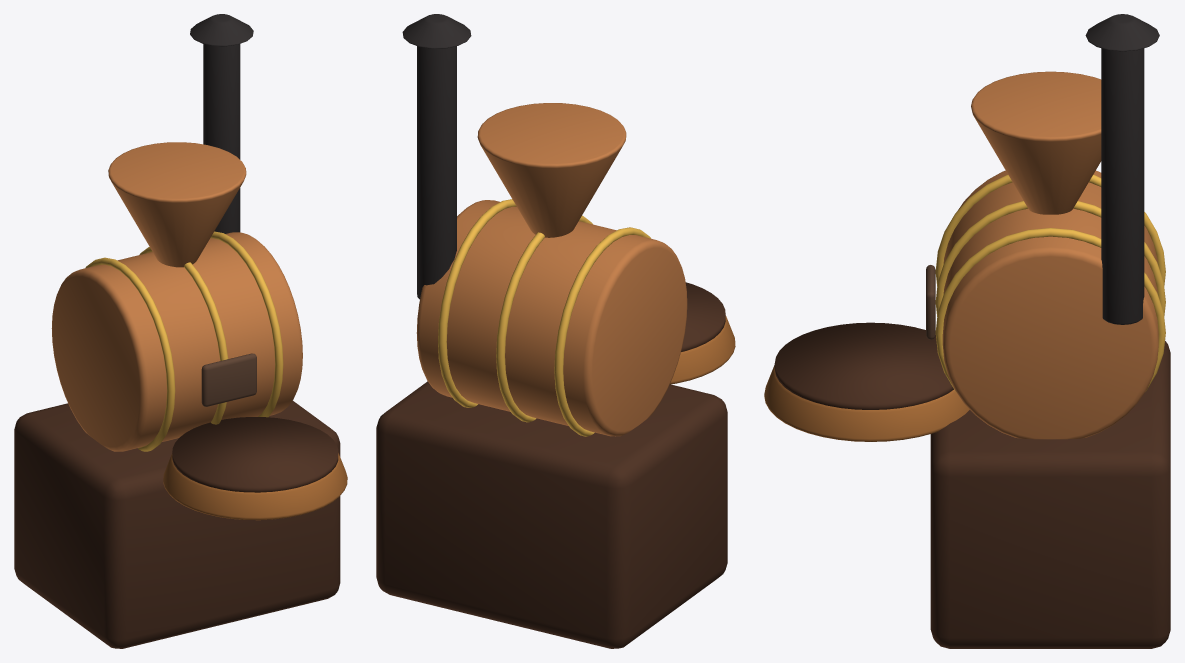
Rendered from torrefacteur.glb.
3 renders of one model, left to right at view 1: azimuth 30°, elevation 25°; view 2: azimuth 150°, elevation 25°; view 3: azimuth 270°, elevation 25°, orthographic. The views are drawn at different scales.
Parts seen in each view (by area): view 1: base, cylindre, tremie, grains, bac, cheminee, porte, cerclage0, cerclage2, chapeau, cerclage1; view 2: base, cylindre, tremie, cheminee, cerclage0, cerclage2, grains, cerclage1, bac, chapeau; view 3: base, cylindre, tremie, grains, cheminee, bac, cerclage2, chapeau, cerclage1, cerclage0, porte.
Part boxes in pixels (x1,y1,x2,y2): base: (14, 401, 340, 648); cylindre: (51, 232, 302, 451); tremie: (108, 142, 246, 267); grains: (172, 417, 338, 492); bac: (163, 453, 347, 520); cheminee: (203, 44, 240, 233); porte: (201, 353, 256, 406); cerclage0: (85, 257, 175, 451); cerclage2: (210, 231, 283, 417); chapeau: (190, 14, 253, 46); cerclage1: (139, 247, 228, 424); base: (376, 381, 727, 648); cylindre: (416, 200, 687, 436); tremie: (477, 103, 626, 237); cheminee: (417, 46, 456, 299); cerclage0: (554, 227, 650, 436); cerclage2: (438, 199, 516, 407); grains: (681, 282, 725, 351); cerclage1: (496, 215, 592, 422); bac: (670, 315, 735, 384); chapeau: (402, 14, 471, 48); base: (930, 341, 1170, 648); cylindre: (942, 170, 1158, 439); tremie: (971, 71, 1101, 214); grains: (774, 322, 953, 409); cheminee: (1101, 48, 1144, 324); bac: (764, 365, 969, 441); cerclage2: (935, 228, 1165, 392); chapeau: (1085, 14, 1159, 51); cerclage1: (935, 201, 1165, 316); cerclage0: (935, 174, 1165, 286); porte: (926, 265, 935, 339).
Bounding box in the file's own units: 1.3 × 2.82 × 1.69.
